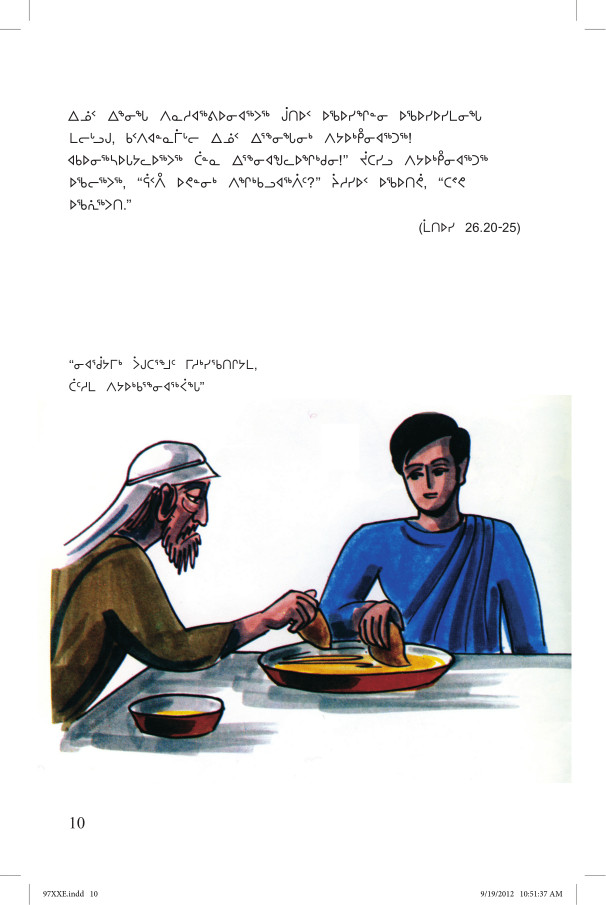inuktitut: (59, 102, 495, 214), (59, 346, 267, 399)
